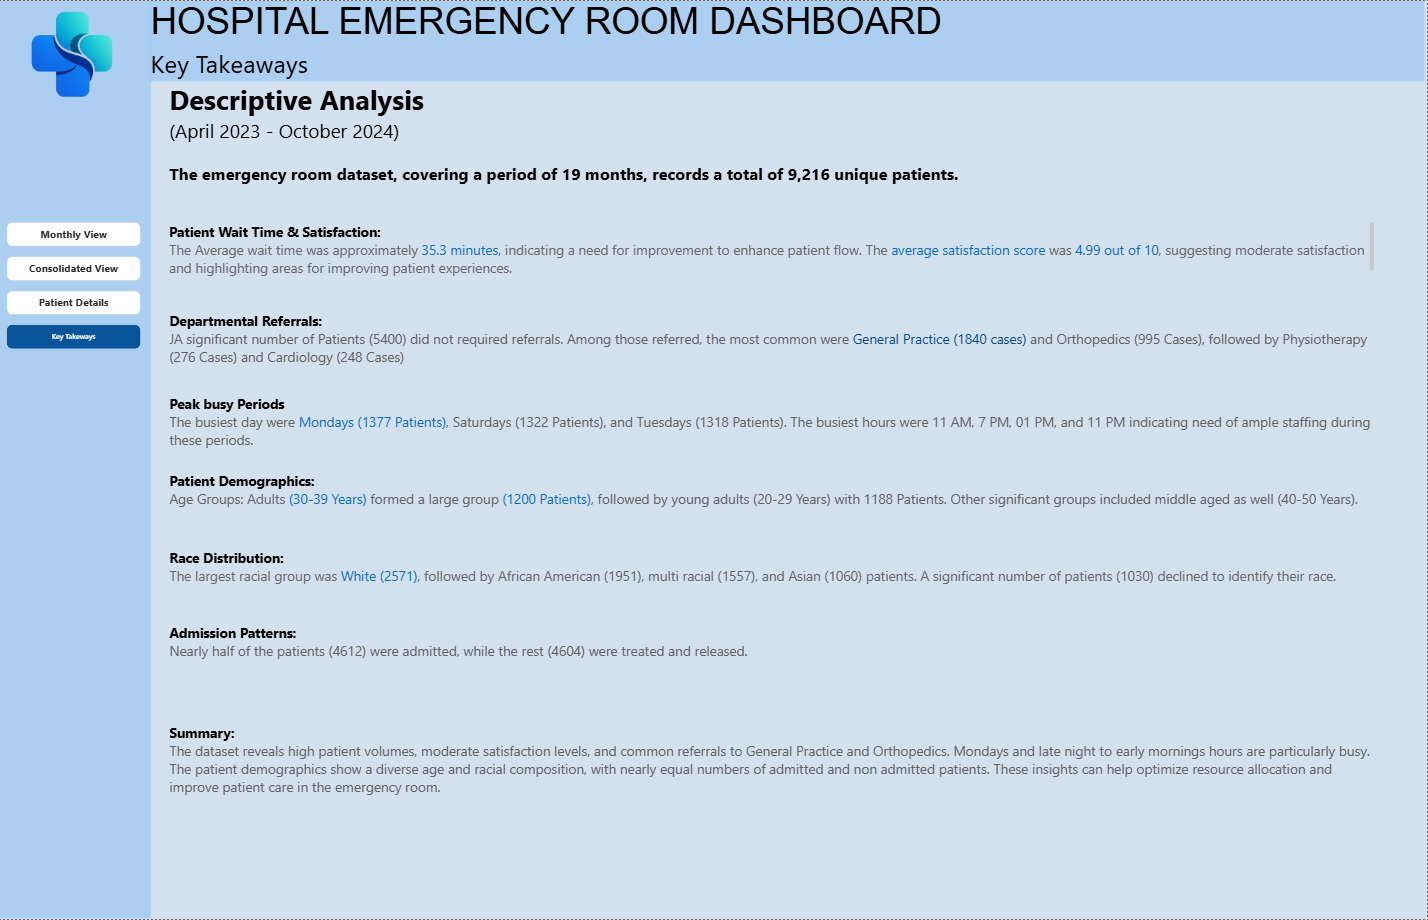

The page's visual inventory and layout, read from the dashboard file:
{"tool":"powerbi","page":{"name":"Key Takeways","canvas":[2800,1800],"ordinal":3},"visuals":[{"type":"shape","box":[0,0,299.7,1797.9],"z":0},{"type":"shape","box":[299.8,0,2496.4,157.8],"z":1000},{"type":"textbox","box":[299.7,0,1587.6,105.1],"z":2000},{"type":"textbox","box":[299.8,88.4,498.7,69.4],"z":3000},{"type":"pageNavigator","box":[17.5,432.5,262.5,250],"z":4000},{"type":"textbox","box":[336.5,157.7,757,136.7],"z":5000},{"type":"textbox","box":[336.5,315.4,1669.1,86.7],"z":6000},{"type":"textbox","box":[336.5,433.7,2360.4,123.5],"z":7000},{"type":"textbox","box":[336.5,607.2,2360.4,134.1],"z":8000},{"type":"textbox","box":[336.5,772.8,2360.4,147.2],"z":9000},{"type":"textbox","box":[336.5,920,2360.4,152.5],"z":10000},{"type":"textbox","box":[336.5,1072.4,2360.4,147.2],"z":11000},{"type":"textbox","box":[336.5,1219.6,2360.4,92],"z":12000},{"type":"textbox","box":[336.5,1416.8,2360.4,302.3],"z":13000},{"type":"image","box":[17.5,12.5,255,185],"z":14000}]}

Visuals, with their boxes on the page's 2800x1800 design canvas (x1, y1, x2, y2). These are canvas units, not pixel positions in the 1428x920 screenshot, which may show the page scaled, cropped or inside an application window:
shape: l=0, t=0, r=300, b=1798
shape: l=300, t=0, r=2796, b=158
textbox: l=300, t=0, r=1887, b=105
textbox: l=300, t=88, r=798, b=158
pageNavigator: l=18, t=432, r=280, b=682
textbox: l=336, t=158, r=1094, b=294
textbox: l=336, t=315, r=2006, b=402
textbox: l=336, t=434, r=2697, b=557
textbox: l=336, t=607, r=2697, b=741
textbox: l=336, t=773, r=2697, b=920
textbox: l=336, t=920, r=2697, b=1072
textbox: l=336, t=1072, r=2697, b=1220
textbox: l=336, t=1220, r=2697, b=1312
textbox: l=336, t=1417, r=2697, b=1719
image: l=18, t=12, r=272, b=198
